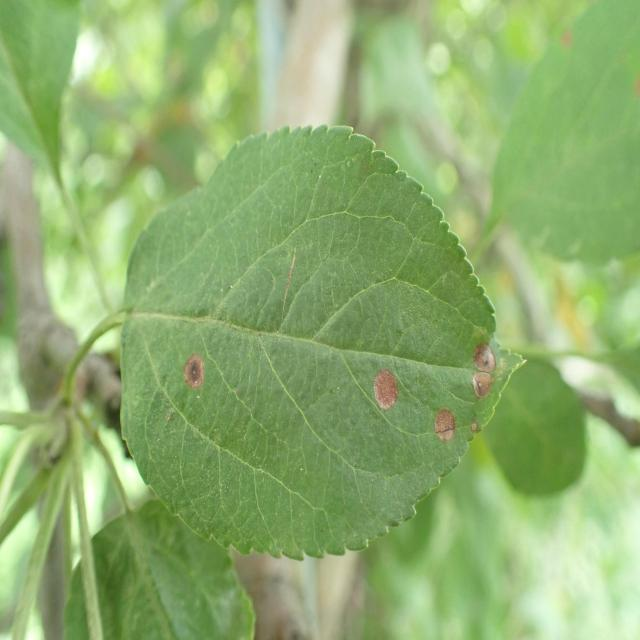Black Rot: (467, 316, 499, 414), (174, 345, 217, 404), (428, 406, 462, 464), (374, 357, 402, 418)
